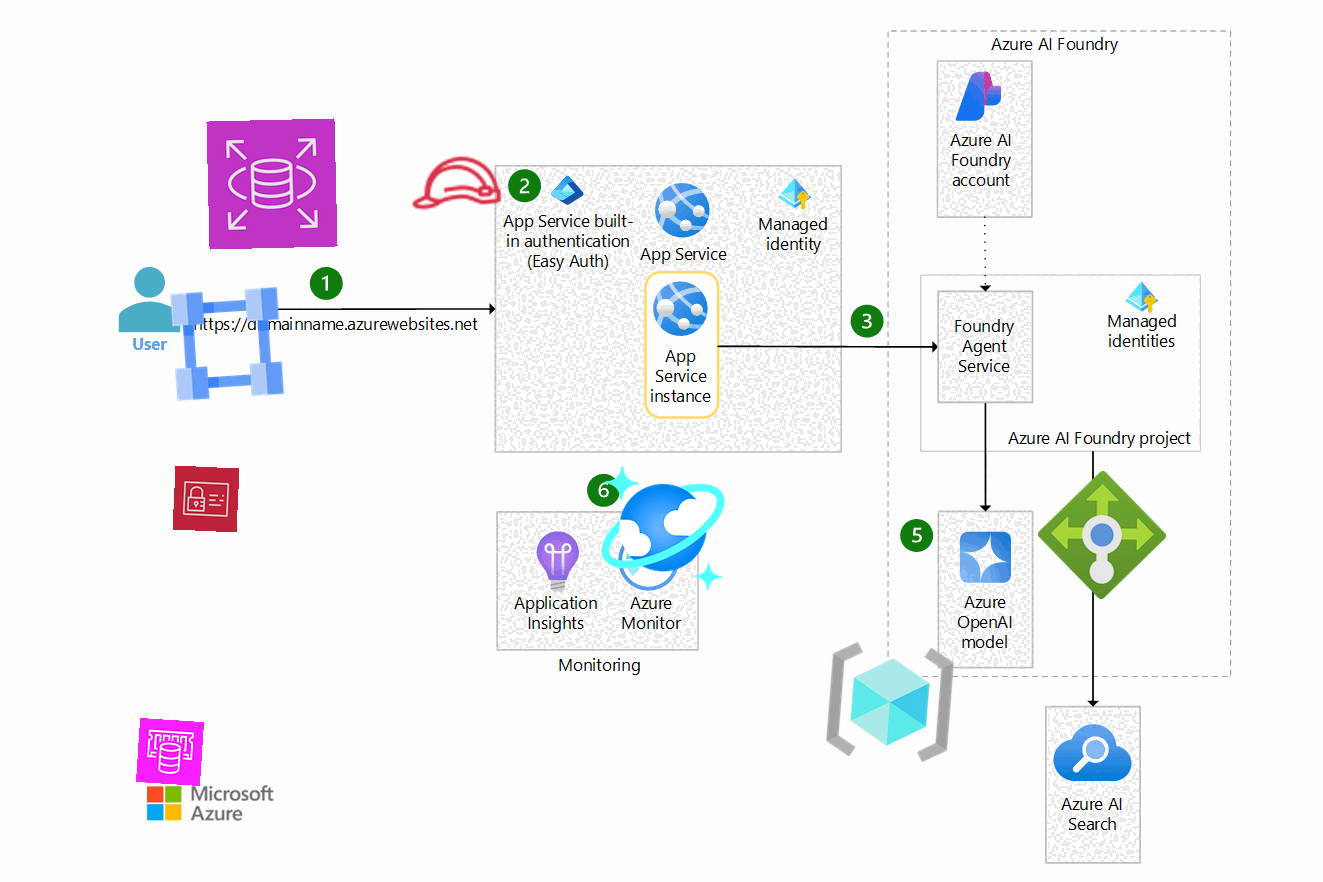aws_amazon_elasticache: (135, 717, 205, 787)
aws_amazon_rds: (206, 118, 338, 250)
aws_identity_access_management_role: (406, 133, 506, 233)
aws_identity_and_access_management: (172, 465, 240, 533)
azure_cosmos_db: (596, 461, 730, 595)
azure_load_balancers: (1037, 470, 1167, 600)
azure_resource_groups: (821, 633, 959, 771)
gcp_virtual_private_cloud: (158, 275, 296, 413)
